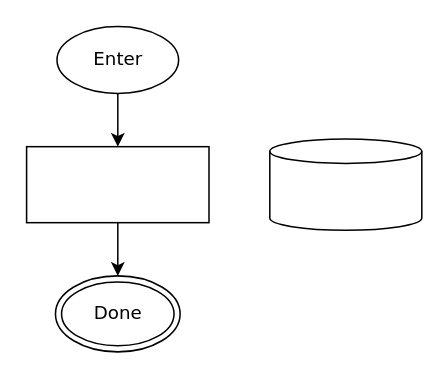
The diagram is 448 pixels wide and 378 high, and some of its shapes have lost their labels. Here are the shapes that lost their labels. From the top down, the centre of each, then its label:
point 117,184: Write order
point 345,184: DB.ORDER
